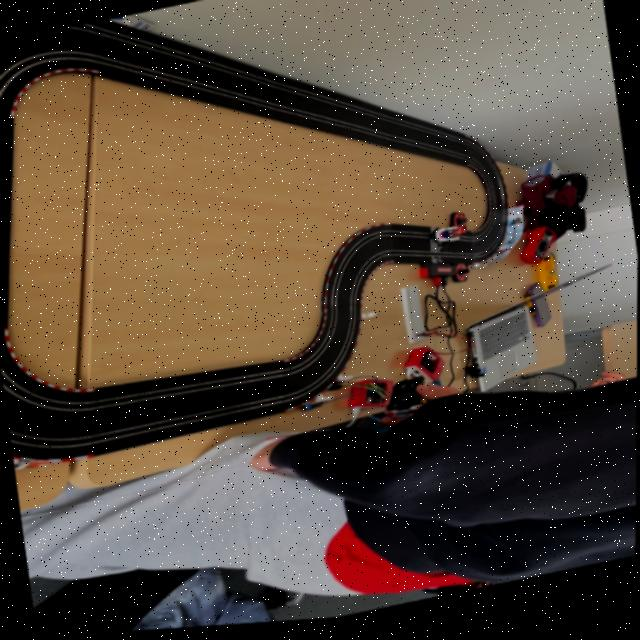mario: (431, 228, 473, 253)
